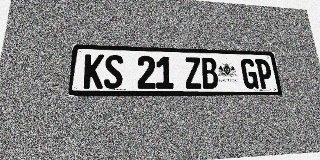1: (155, 56, 174, 89)
2: (137, 56, 155, 89)
B: (200, 57, 219, 89)
G: (240, 59, 259, 89)
K: (83, 54, 104, 89)
P: (255, 59, 274, 89)
S: (103, 55, 123, 89)
Z: (184, 57, 202, 89)
